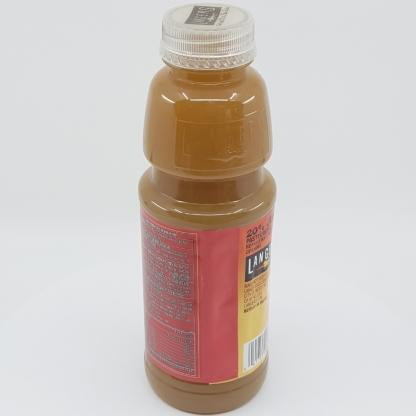-----449ML: (137, 2, 276, 413)
